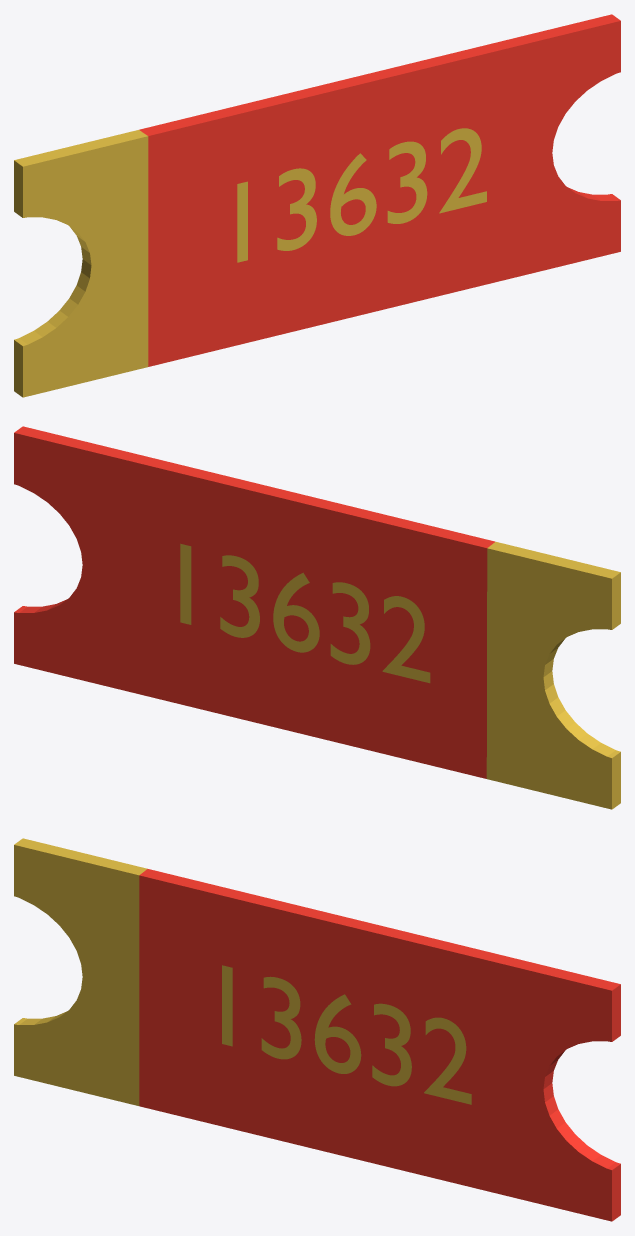
File: foodcoupon4.glb
3 renders of one model, top to bottom at view 1: azimuth 30°, elevation 25°; view 2: azimuth 150°, elevation 25°; view 3: azimuth 330°, elevation 25°, orthographic.
Visible parts, largest first — view 1: Cube.001; view 2: Cube.001; view 3: Cube.001.
Part boxes in pixels (x1,y1,x2,y2): Cube.001: [14, 14, 620, 397]; Cube.001: [14, 426, 620, 809]; Cube.001: [14, 838, 620, 1221].
Size of the model in its own units: 5.42 by 2 by 0.2516.
